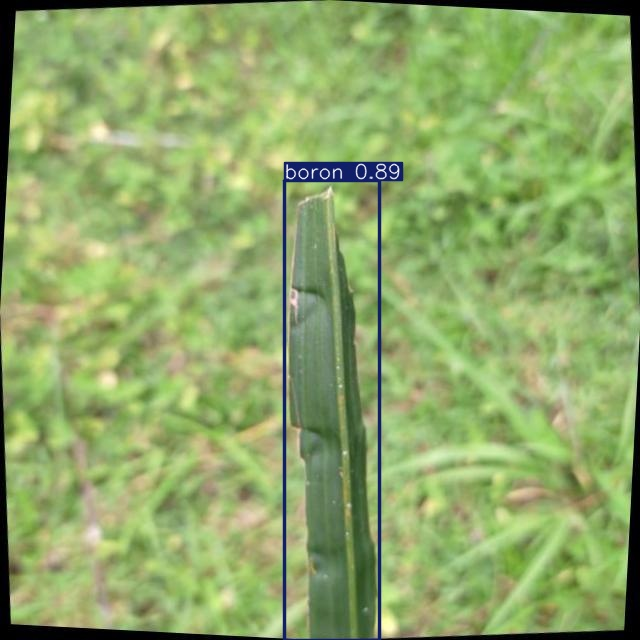nitrogen: (285, 181, 380, 640)
